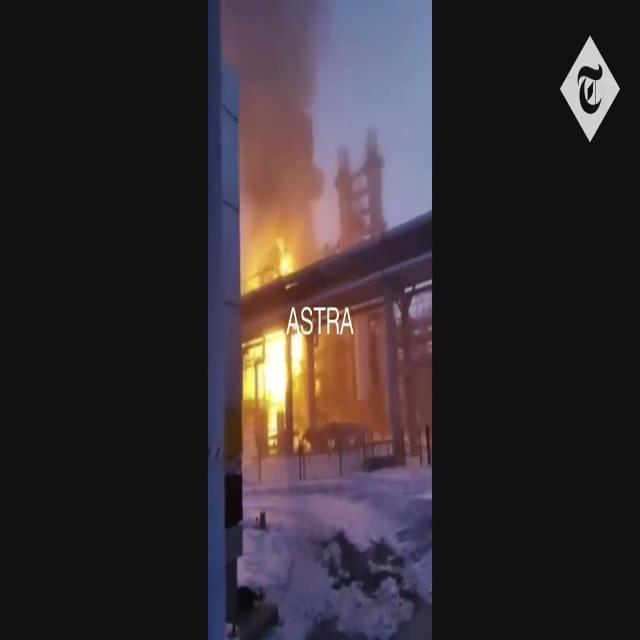Fire: (240, 236, 315, 447)
Smoke: (220, 0, 348, 242)
